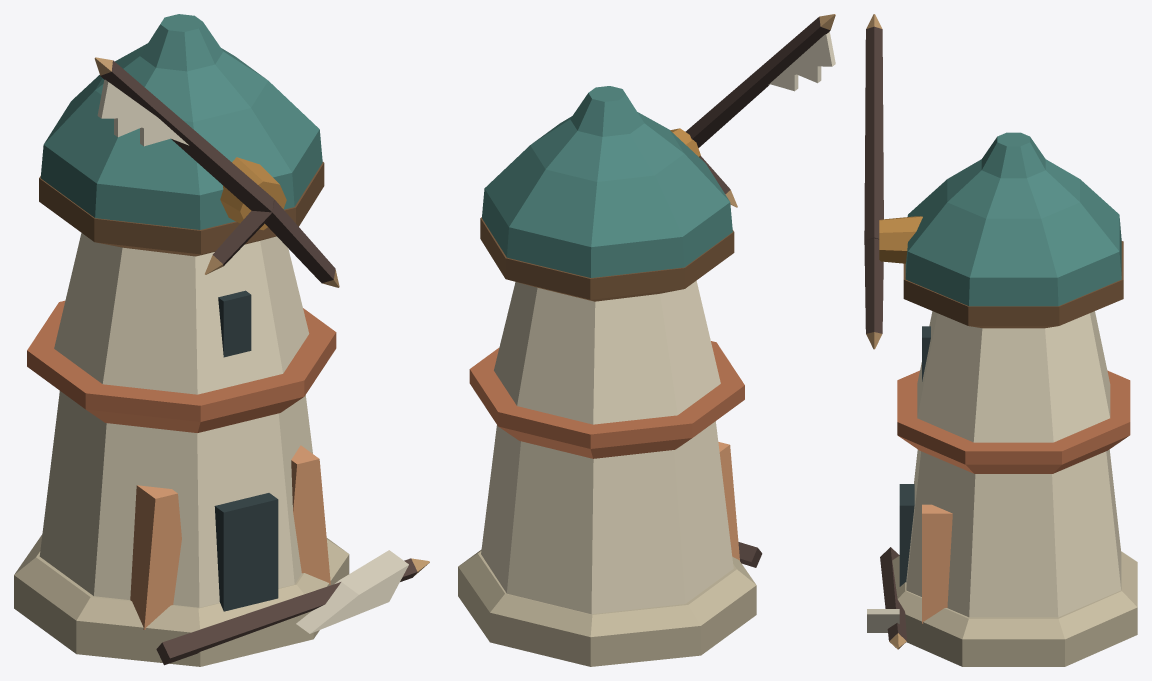
File: ns-pillaged-windmill.glb
3 renders of one model, left to right at view 1: azimuth 30°, elevation 25°; view 2: azimuth 150°, elevation 25°; view 3: azimuth 270°, elevation 25°, orthographic. The views are drawn at different scales.
Parts seen in each view (by area): view 1: Work profile; view 2: Work profile; view 3: Work profile.
Boxes of the visible parts, <box> form: Work profile: <box>14,14,429,666</box>; Work profile: <box>458,14,835,666</box>; Work profile: <box>864,14,1137,666</box>.
Size of the model in its own units: 0.4046 by 0.7127 by 0.333.
